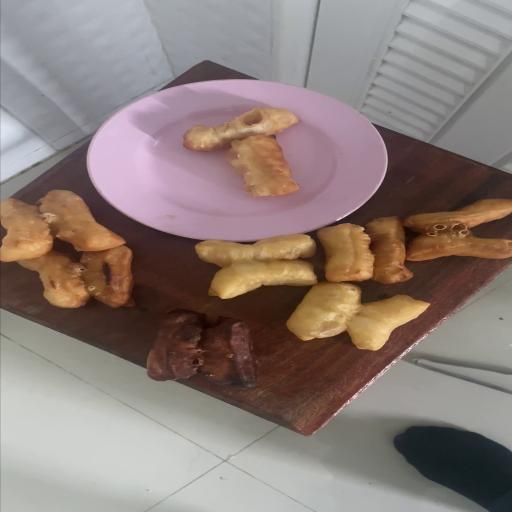street_burnt_defect: (144, 312, 257, 387), (20, 248, 133, 308)
street_golden_good: (194, 234, 317, 300)
